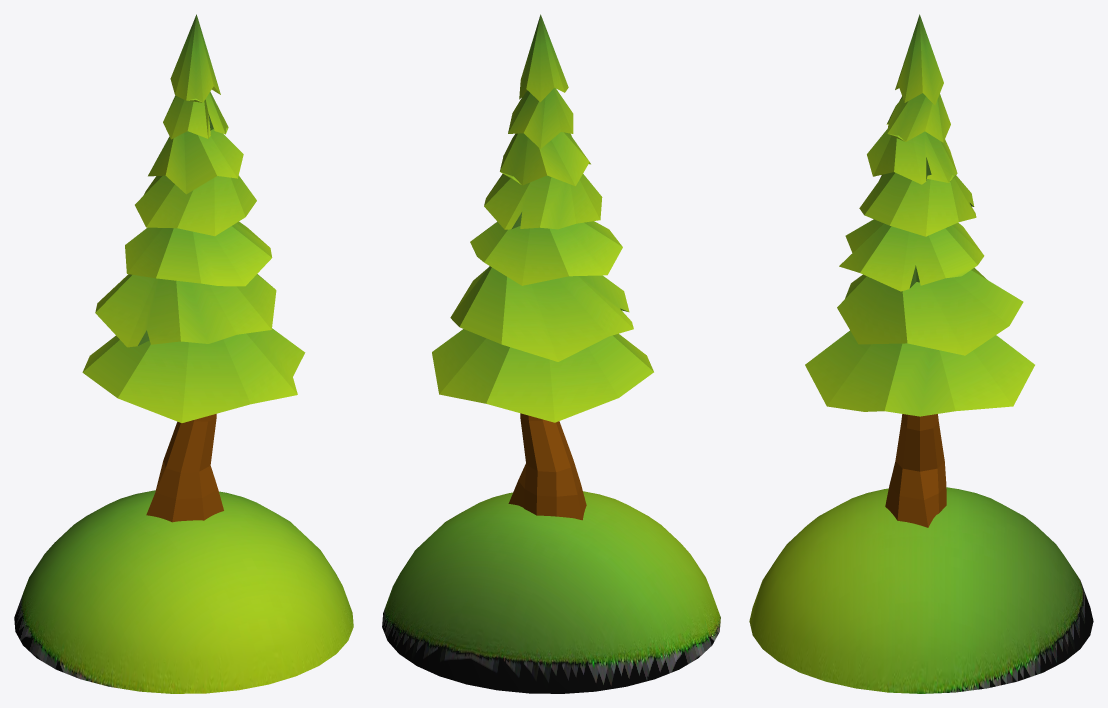
The model's file is sf_tree_13.glb.
3 views of the same model, side by side, from view 1: azimuth 30°, elevation 25°; view 2: azimuth 150°, elevation 25°; view 3: azimuth 270°, elevation 25° (orthographic).
Parts seen in each view (by area): view 1: Sphere_Material.003_0, Cylinder_Material.002_0, Cylinder_Material.001_0; view 2: Sphere_Material.003_0, Cylinder_Material.002_0, Cylinder_Material.001_0; view 3: Sphere_Material.003_0, Cylinder_Material.002_0, Cylinder_Material.001_0.
Part boxes in pixels (x1=…): Sphere_Material.003_0: x1=14, y1=490, x2=353, y2=693; Cylinder_Material.002_0: x1=82, y1=14, x2=305, y2=422; Cylinder_Material.001_0: x1=146, y1=414, x2=223, y2=522; Sphere_Material.003_0: x1=382, y1=491, x2=720, y2=693; Cylinder_Material.002_0: x1=432, y1=14, x2=653, y2=422; Cylinder_Material.001_0: x1=508, y1=413, x2=586, y2=520; Sphere_Material.003_0: x1=749, y1=487, x2=1093, y2=693; Cylinder_Material.002_0: x1=805, y1=14, x2=1034, y2=416; Cylinder_Material.001_0: x1=885, y1=414, x2=946, y2=527.
Size of the model in its own units: 4.07 by 8 by 4.07.
3 materials, 3 textured.
